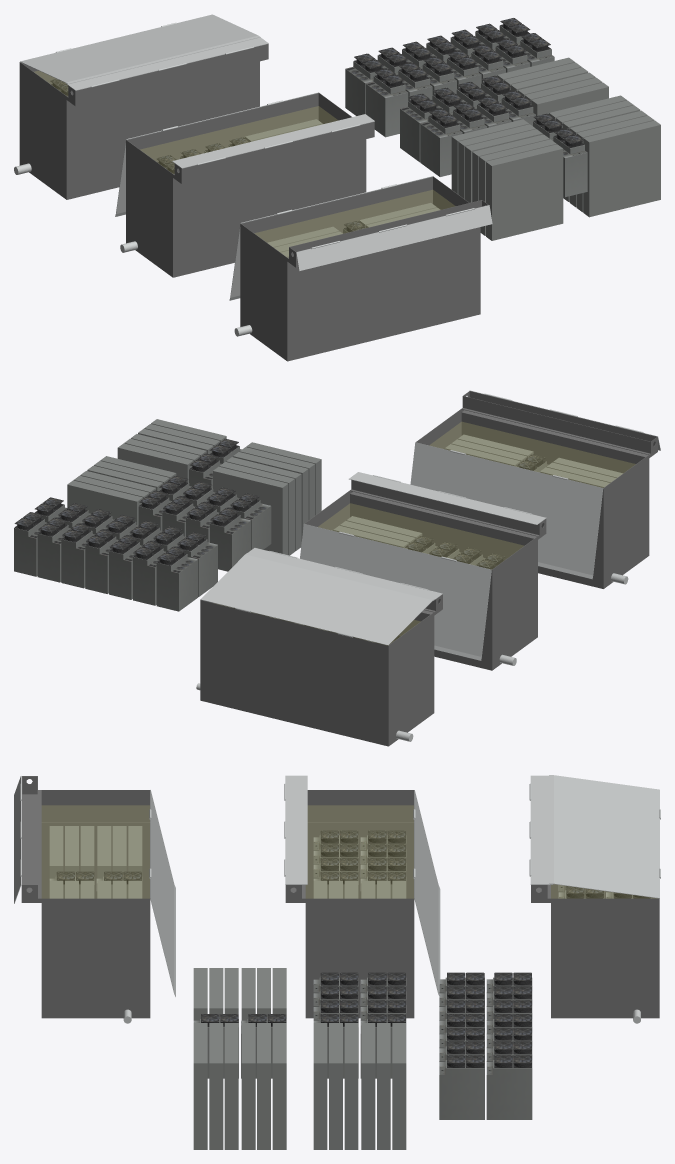
3 renders of one model, top to bottom at view 1: azimuth 30°, elevation 25°; view 2: azimuth 150°, elevation 25°; view 3: azimuth 270°, elevation 25°, orthographic. The views are drawn at different scales.
Parts seen in each view (by area): view 1: Miner.003, Miner.004, Miner.008, Miner.009, Miner.006, Miner.007, Circle.004, Circle.001, Miner.010, Miner.005, Circle.003, Circle.005 (+4 smaller); view 2: Miner.009, Miner.006, Miner.003, Miner.004, Miner.008, Miner.007, Circle.004, Circle, Circle.002, Miner.010, Miner.005, Miner.002 (+3 smaller); view 3: Miner.003, Miner.008, Miner.007, Miner.004, Miner.006, Miner.009, Circle.004, Miner.010, Miner.005, Miner.002, Miner.001, Circle.002 (+6 smaller).
Part boxes in pixels (x1=…): Miner.003: x1=240, y1=176, x2=488, y2=361; Miner.004: x1=126, y1=93, x2=374, y2=277; Miner.008: x1=451, y1=95, x2=660, y2=240; Miner.009: x1=19, y1=44, x2=268, y2=199; Miner.006: x1=345, y1=18, x2=554, y2=137; Miner.007: x1=400, y1=57, x2=608, y2=176; Circle.004: x1=20, y1=14, x2=260, y2=84; Circle.001: x1=296, y1=205, x2=492, y2=270; Miner.010: x1=255, y1=190, x2=453, y2=256; Miner.005: x1=141, y1=106, x2=337, y2=173; Circle.003: x1=172, y1=114, x2=374, y2=168; Circle.005: x1=66, y1=37, x2=268, y2=90; Miner.009: x1=200, y1=594, x2=442, y2=746; Miner.006: x1=14, y1=497, x2=217, y2=611; Miner.003: x1=416, y1=391, x2=657, y2=588; Miner.004: x1=304, y1=480, x2=546, y2=670; Miner.008: x1=117, y1=419, x2=321, y2=555; Miner.007: x1=67, y1=456, x2=271, y2=571; Circle.004: x1=200, y1=553, x2=434, y2=645; Circle: x1=410, y1=442, x2=603, y2=579; Circle.002: x1=300, y1=524, x2=491, y2=660; Miner.010: x1=430, y1=422, x2=634, y2=487; Miner.005: x1=319, y1=504, x2=522, y2=568; Miner.002: x1=444, y1=434, x2=622, y2=487; Miner.003: x1=21, y1=776, x2=150, y2=1018; Miner.008: x1=193, y1=968, x2=286, y2=1149; Miner.007: x1=313, y1=972, x2=406, y2=1149; Miner.004: x1=285, y1=790, x2=414, y2=1018; Miner.006: x1=439, y1=972, x2=532, y2=1119; Miner.009: x1=531, y1=884, x2=659, y2=1018; Circle.004: x1=549, y1=775, x2=660, y2=898; Miner.010: x1=42, y1=806, x2=149, y2=897; Miner.005: x1=306, y1=806, x2=413, y2=897; Miner.002: x1=49, y1=826, x2=142, y2=898; Miner.001: x1=313, y1=830, x2=406, y2=898; Circle.002: x1=413, y1=790, x2=440, y2=995.
Bounding box in the file's own units: 15.17 × 3.73 × 16.26.
Materials: 4 (2 with a texture image).
